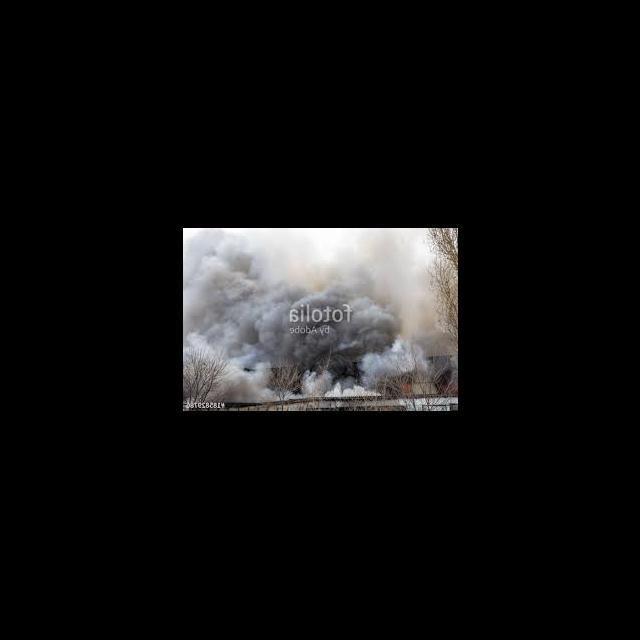Smoke: (183, 234, 400, 370), (183, 334, 297, 402), (357, 341, 427, 388), (299, 371, 332, 399), (324, 383, 378, 397), (401, 382, 411, 394)
